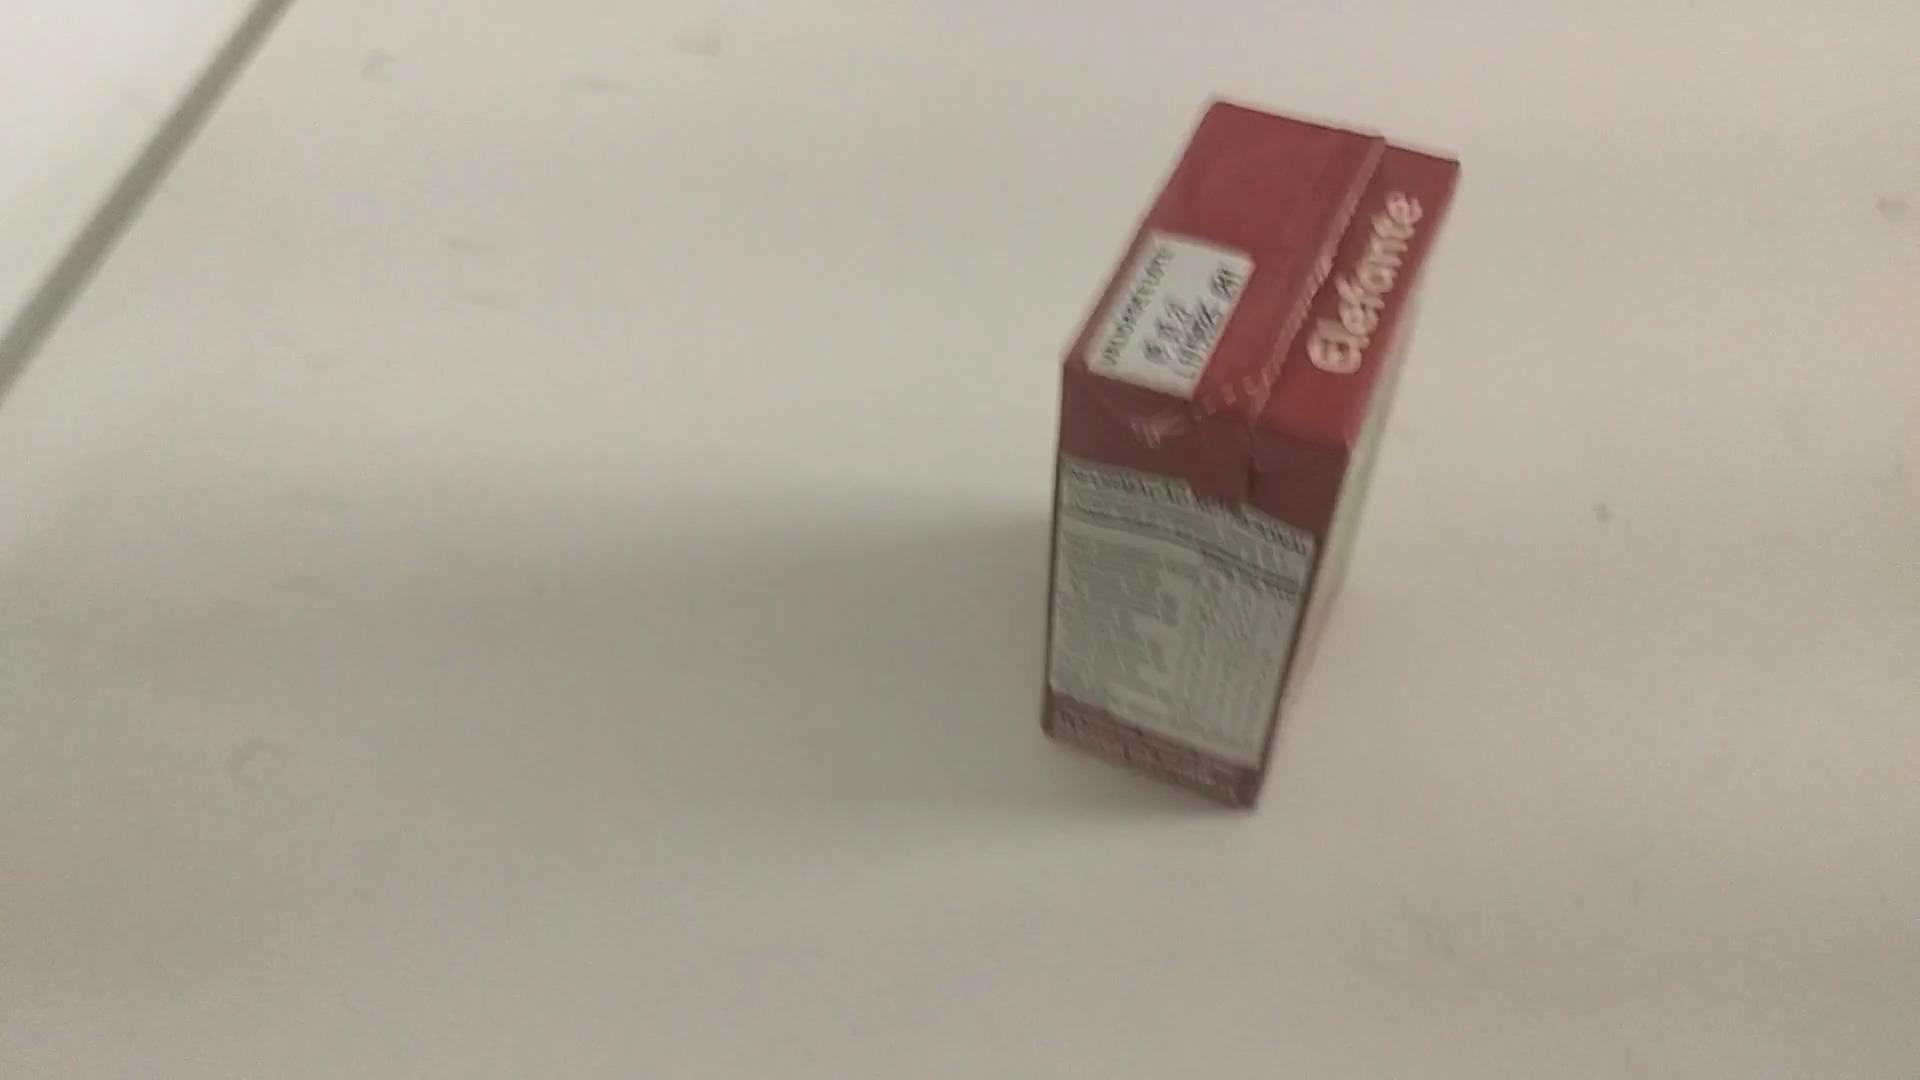tomate: (1017, 70, 1519, 822)
